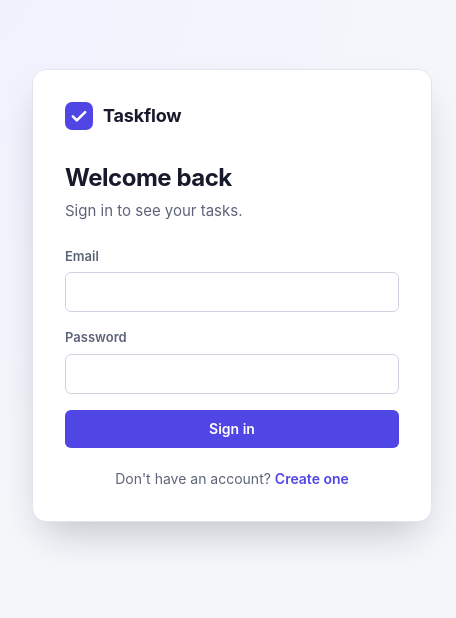
sign in › switches to the registration form
The width and height of the screenshot is (456, 618).
Click the button "Create one". click: click(312, 478)
box: [275,468,349,488]
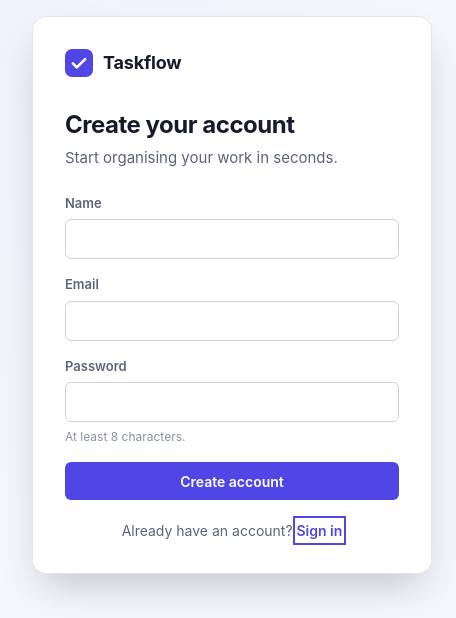
expect the heading "Create your account" is shown: met, box [65,110,294,139]
expect the field labelled "Name" is shown: met, box [65,219,399,259]
